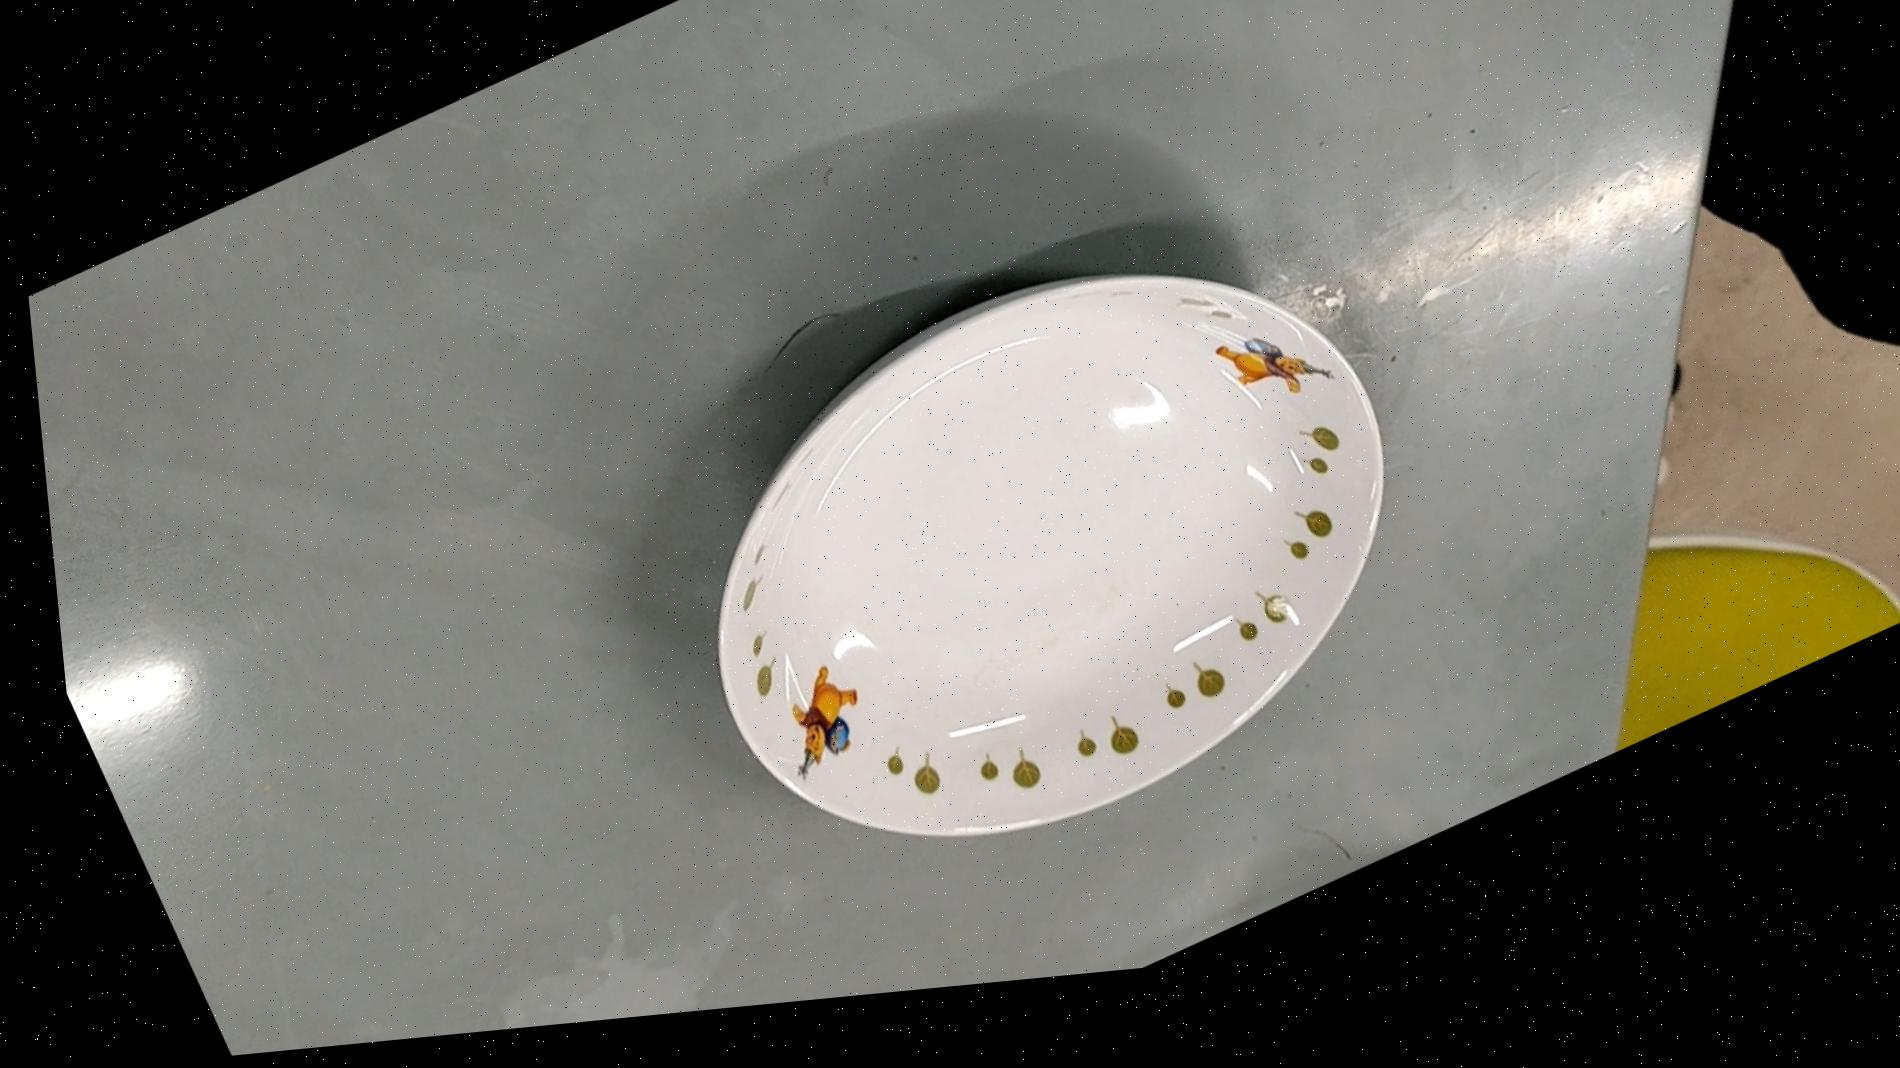plate: (590, 185, 1476, 961)
